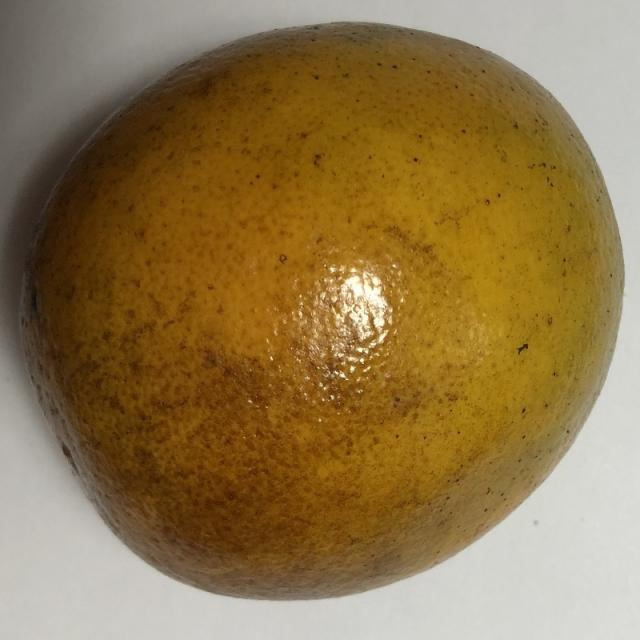blackspot: (20, 12, 635, 616)
